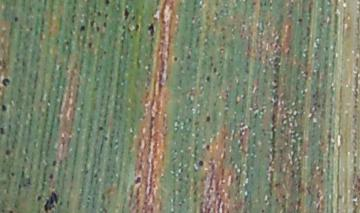tarspot: (42, 191, 62, 213), (147, 21, 156, 38), (122, 7, 132, 22), (132, 175, 143, 186), (203, 73, 213, 84), (1, 77, 11, 87), (297, 14, 305, 26), (34, 193, 43, 203), (95, 10, 104, 20), (97, 122, 105, 133), (204, 143, 212, 154), (133, 21, 141, 32), (94, 24, 102, 35), (78, 23, 87, 32), (171, 55, 180, 64), (3, 149, 13, 157), (86, 39, 94, 49), (204, 114, 212, 124), (13, 14, 20, 25), (197, 159, 206, 167), (48, 172, 56, 180), (9, 171, 17, 179), (88, 19, 96, 27), (50, 160, 59, 167), (1, 103, 8, 112), (101, 21, 108, 30), (102, 13, 111, 19), (6, 207, 16, 212), (1, 126, 6, 136), (103, 1, 111, 6)
